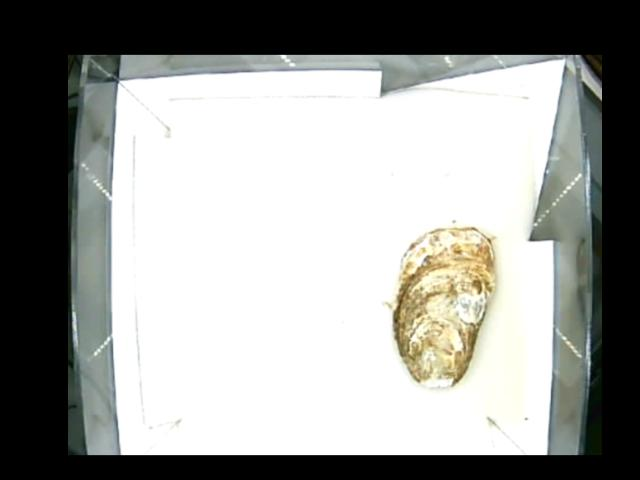Shell: (393, 228, 497, 385)
